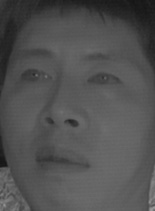eye: (86, 65, 124, 91), (17, 65, 54, 89)
mouth: (31, 137, 91, 181)
